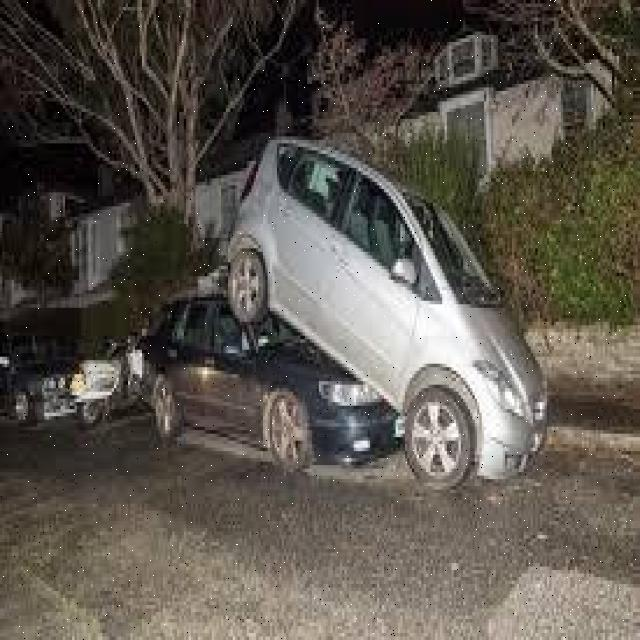severe: (128, 126, 554, 483)
